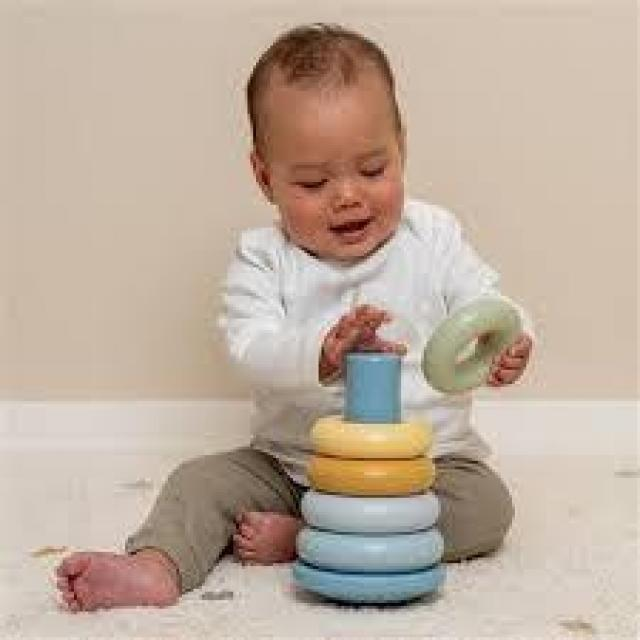child: (43, 25, 518, 605)
